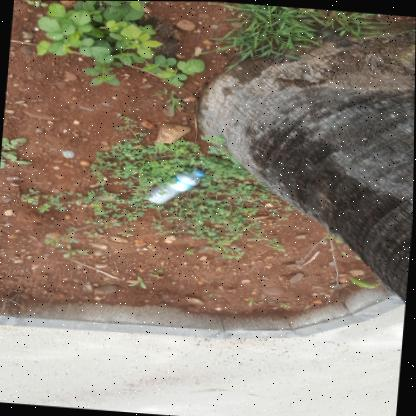Plastic: (145, 169, 205, 204)
Waste: (194, 169, 205, 176)
